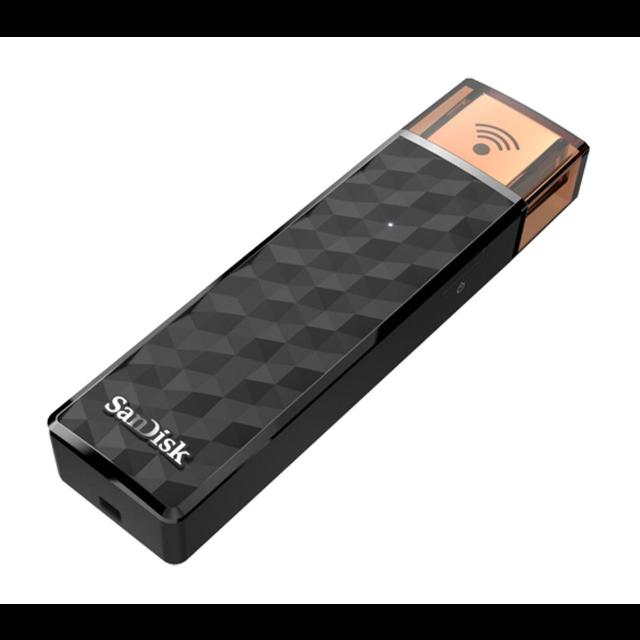USB-Flash-Drive: (38, 70, 592, 580)
